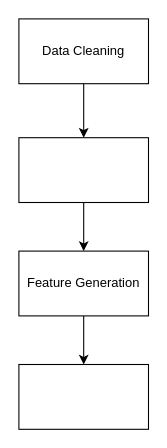
Image size: 167x448. Some labels were removed from this diagram. The shapes that lost their labels are listed below. From the top down, each one's box as (x1, y1, x2, y2) in pixels, then its label:
(18, 137, 148, 202): Data Processing
(18, 363, 148, 429): Machine Learning
